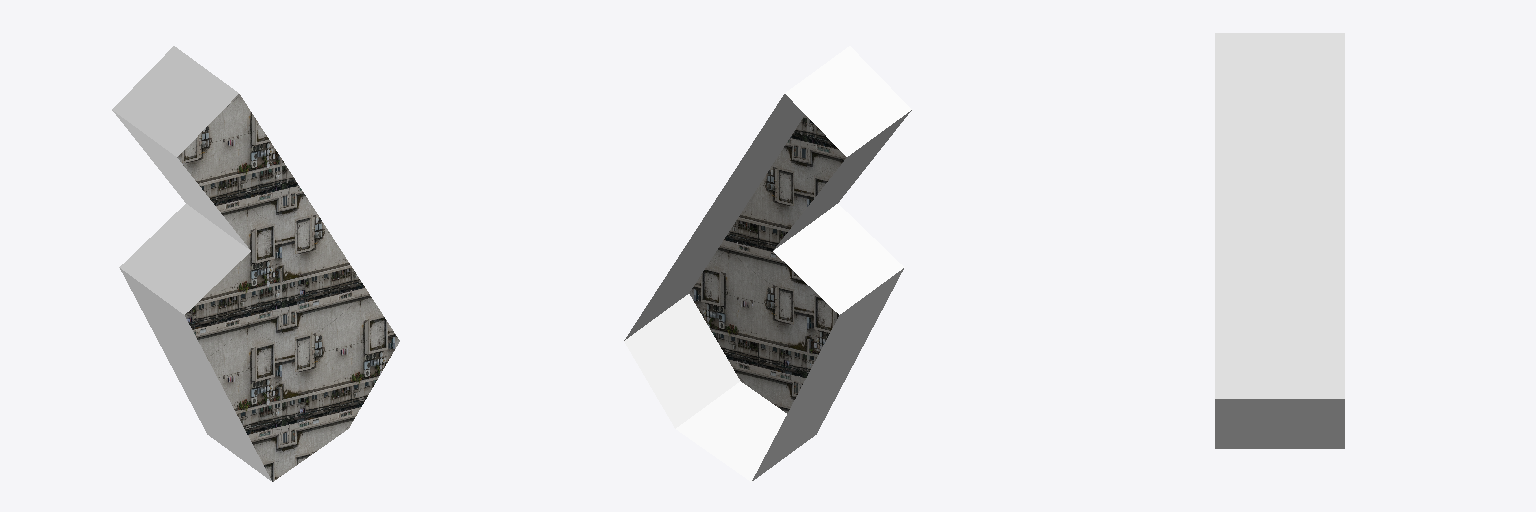
The picture shows the model from 3 angles: view 1: azimuth 30°, elevation 25°; view 2: azimuth 150°, elevation 25°; view 3: azimuth 270°, elevation 25°; orthographic projection.
Parts seen in each view (by area): view 1: Building; view 2: Building; view 3: Building.
Boxes of the visible parts, x1,y1,x2,y2 form: Building: [112, 46, 399, 481]; Building: [624, 46, 911, 481]; Building: [1215, 33, 1344, 448].
Bounding box in the file's own units: 23.67 × 40.28 × 12.
2 materials, 1 textured.